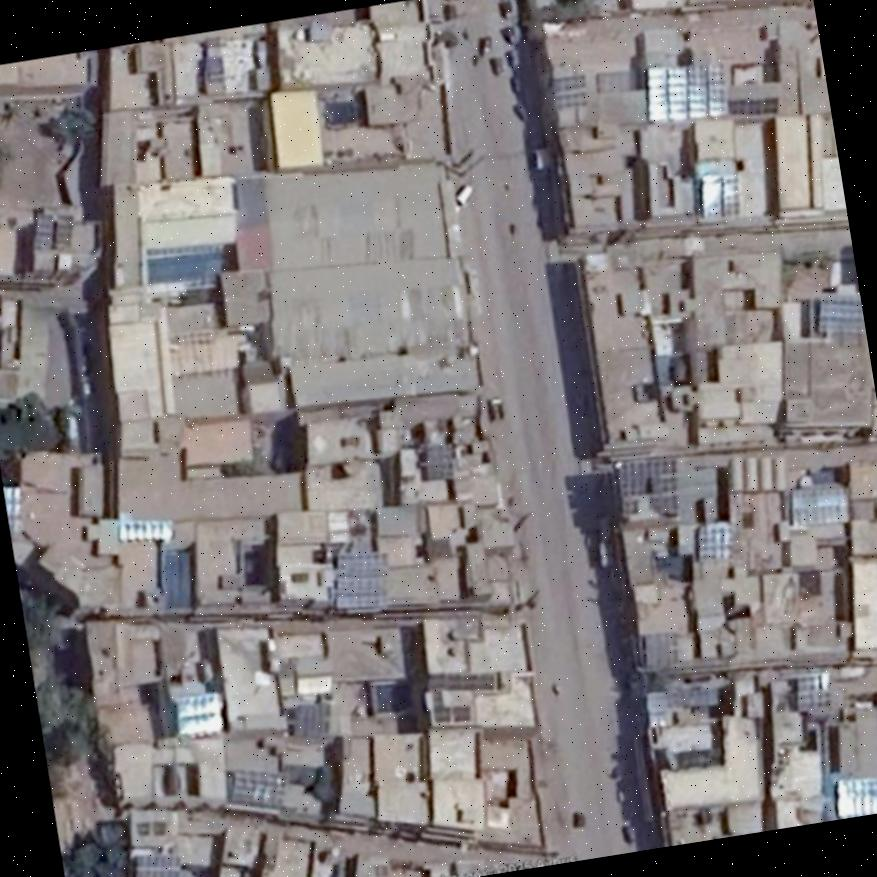Solarpanel: (646, 65, 728, 118), (617, 458, 678, 517), (335, 555, 386, 607), (700, 175, 741, 218), (818, 296, 865, 332), (835, 778, 877, 818), (177, 696, 220, 734), (796, 673, 829, 709), (699, 525, 733, 559), (116, 518, 171, 539), (424, 673, 495, 689), (135, 855, 180, 877), (434, 704, 469, 720)
